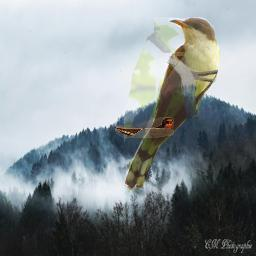Cuckoo: (124, 17, 220, 192)
Swallow: (115, 117, 174, 138)
